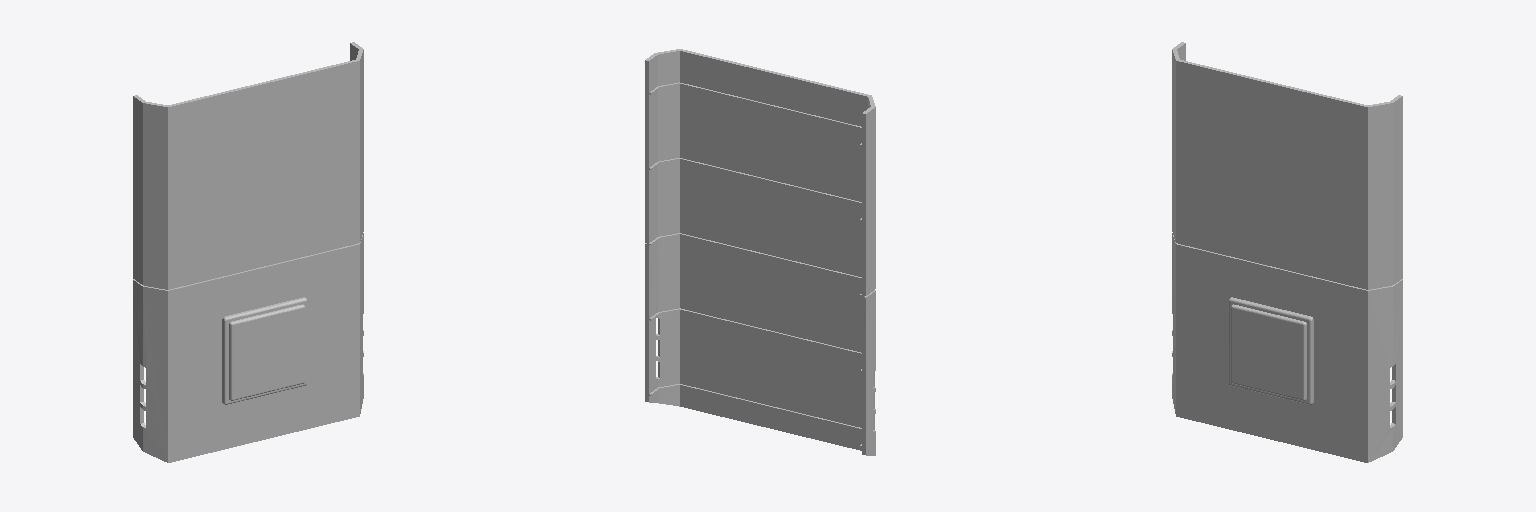
Rendered from NovaBus-LFSe-roof.sec001.obj.
3 renders of one model, left to right at view 1: azimuth 30°, elevation 25°; view 2: azimuth 150°, elevation 25°; view 3: azimuth 330°, elevation 25°, orthographic.
Visible parts, largest first — view 1: roof.001; view 2: roof.001; view 3: roof.001.
Part boxes in pixels (left/top/right/bottom): roof.001: left=133, top=42, right=363, bottom=462; roof.001: left=645, top=49, right=875, bottom=455; roof.001: left=1172, top=42, right=1402, bottom=462.
Size of the model in its own units: 0.1325 by 0.2038 by 0.0259.